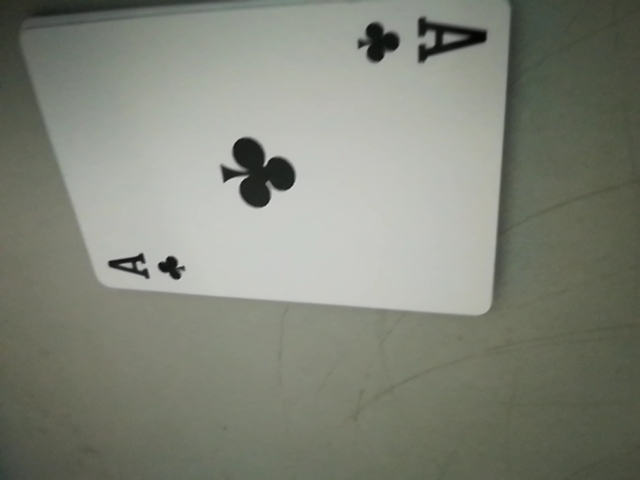mh a: (354, 7, 487, 74), (101, 245, 193, 288)
